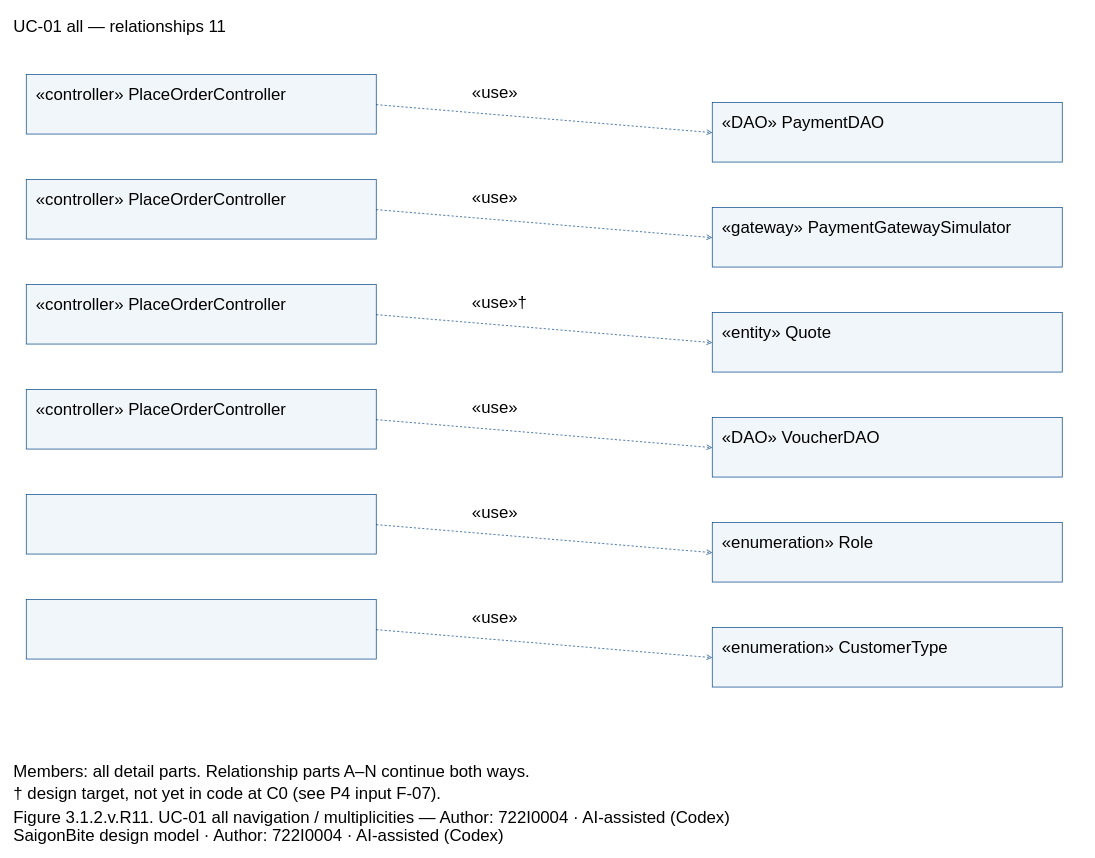
Image size: 1095x858. Some labels were removed from this diagram. The box of each missing label's shape, as (x1, y1, x2, y2) in pixels:
«entity» Customer: (26, 599, 376, 659)
«entity» UserAccount: (26, 494, 376, 554)
